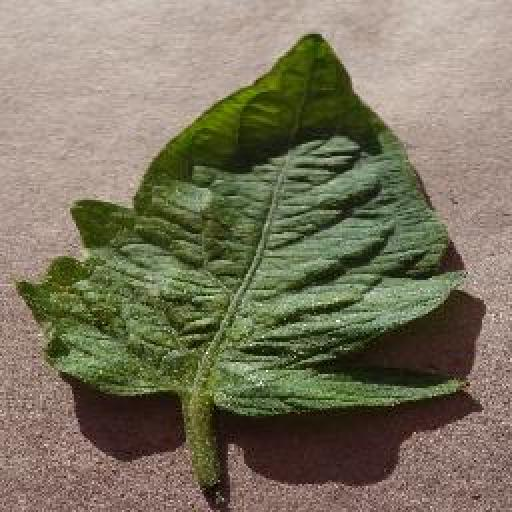Spider Mites: (16, 30, 469, 418)
